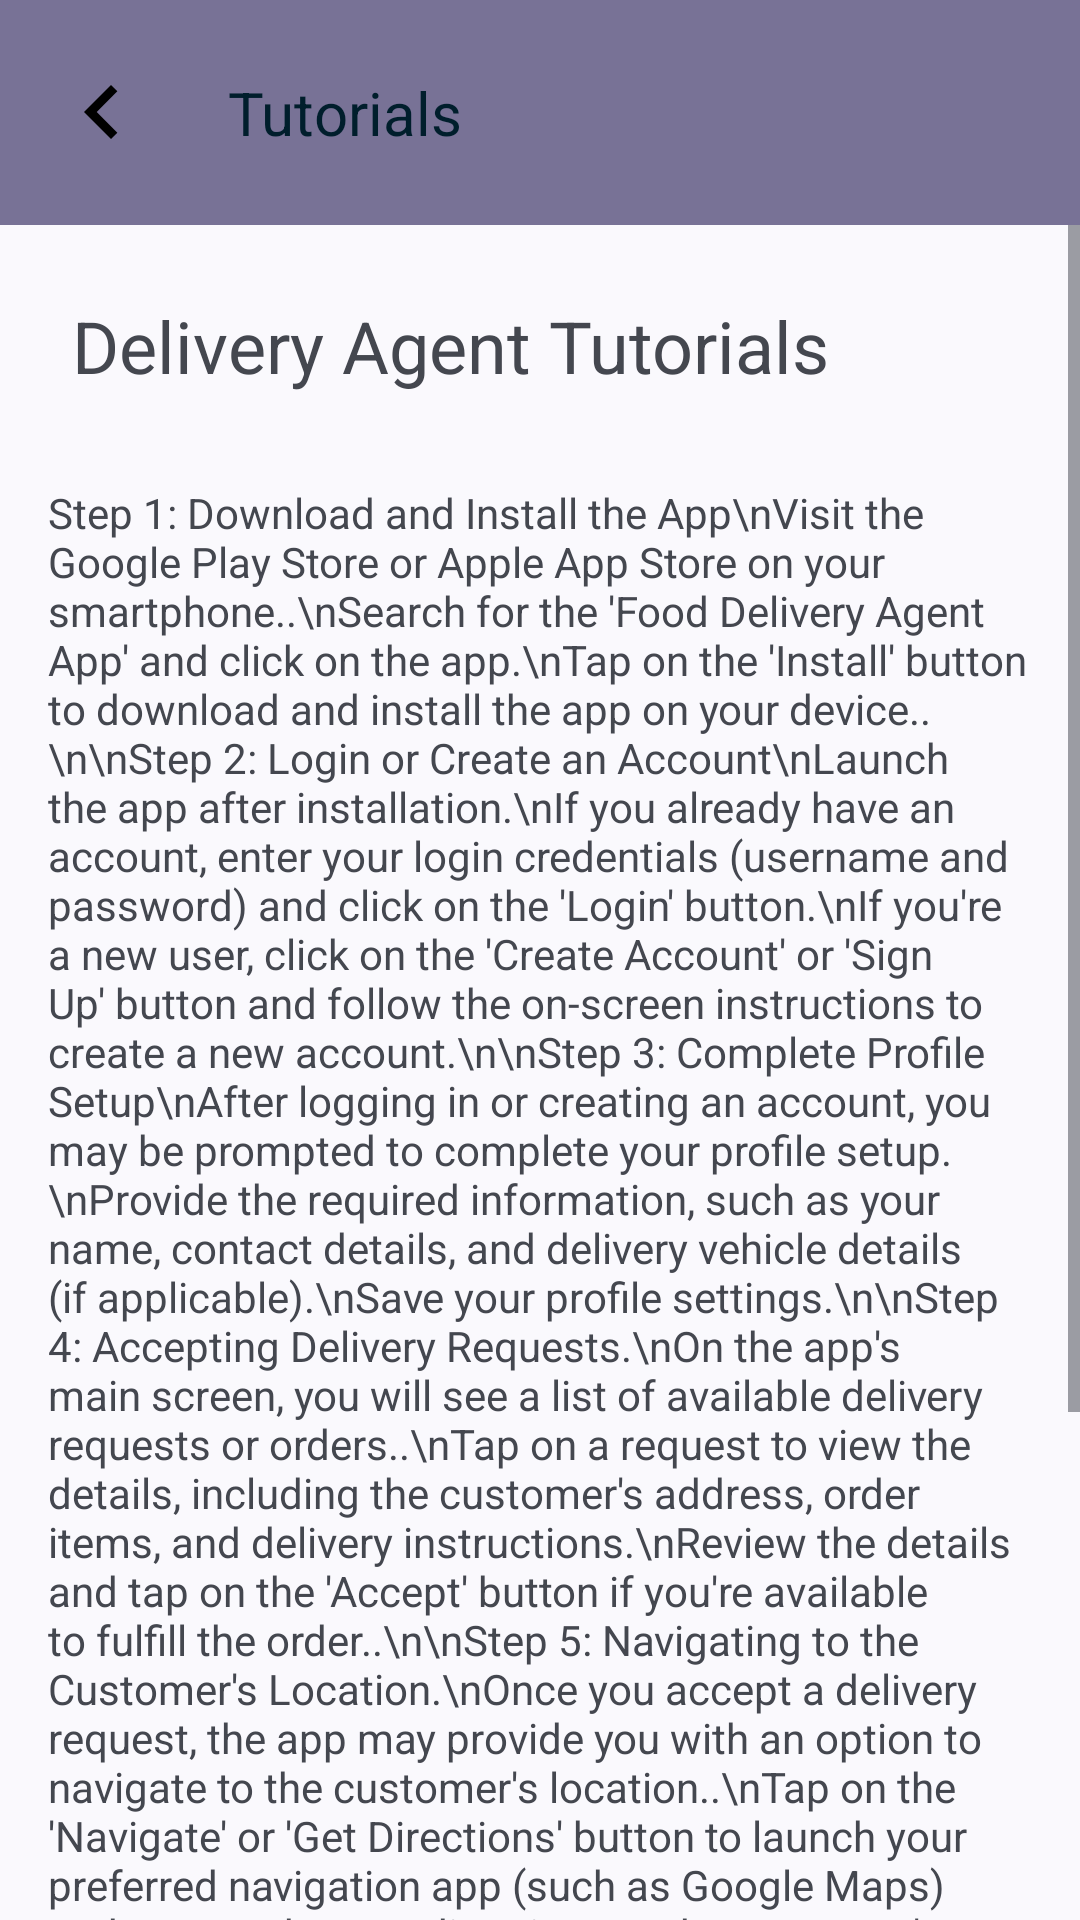

Screen size 1080px x 1920px. Icon name, then its box in pixels as (x1, y1, x2, y2):
chevron left: (84, 85, 117, 139)
